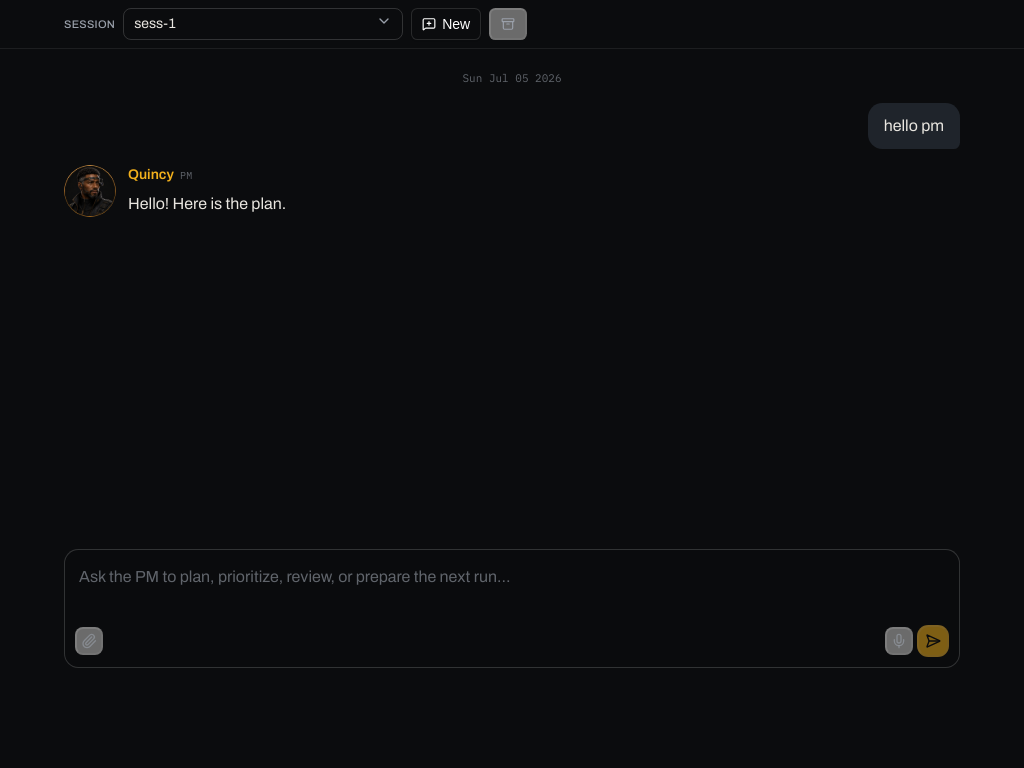
PM workspace › changeset card renders curation ops (reorder/lock) against the live backlog
Expected: the text "hello pm" is shown, [868, 103, 960, 149]
Replace the text in the text box with placeholder "Ask the PM" with "reprioritize": (512, 586) [65, 550, 959, 622]
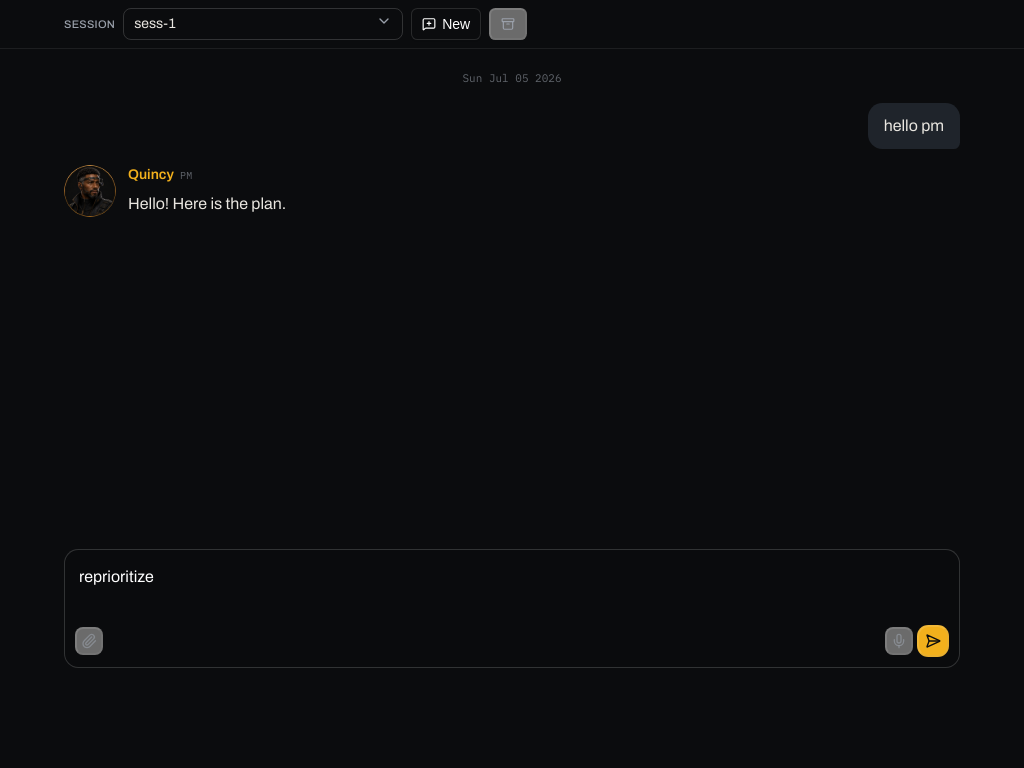
Click the button named "Send message to the PM": (933, 641) [917, 625, 949, 657]
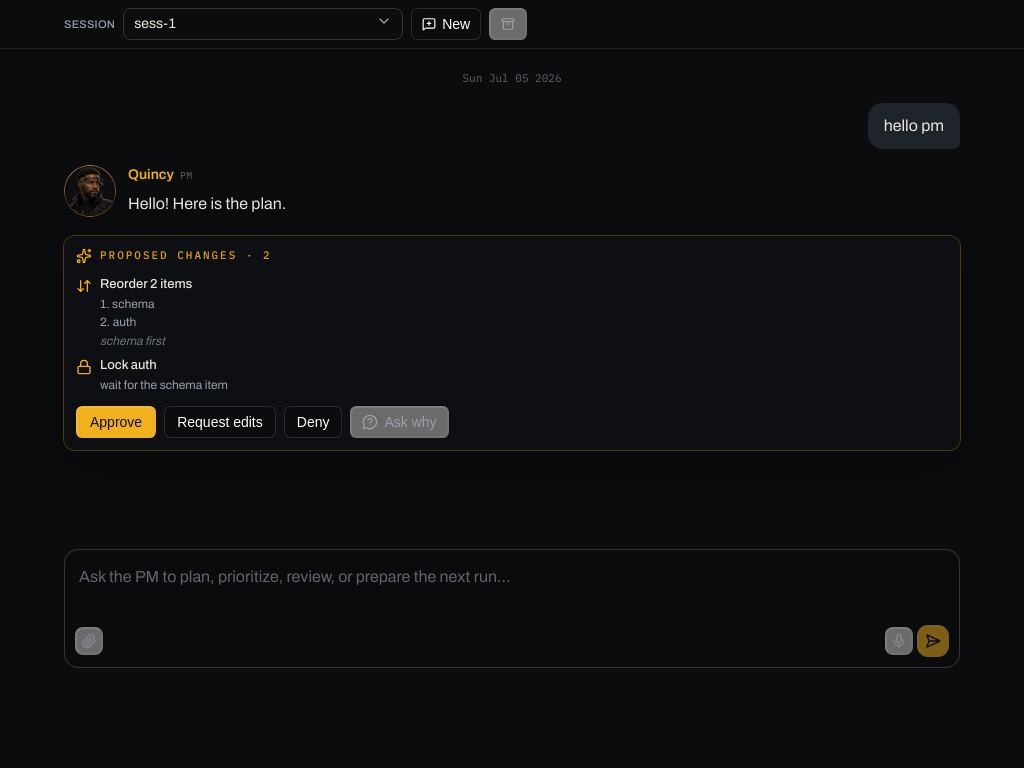
Now the text "Proposed changes · 2" is shown, box [76, 248, 272, 264]
Now the text "Reorder 2 items" is shown, box [100, 276, 192, 294]
Now the text "Lock auth" is shown, box [100, 358, 157, 372]
